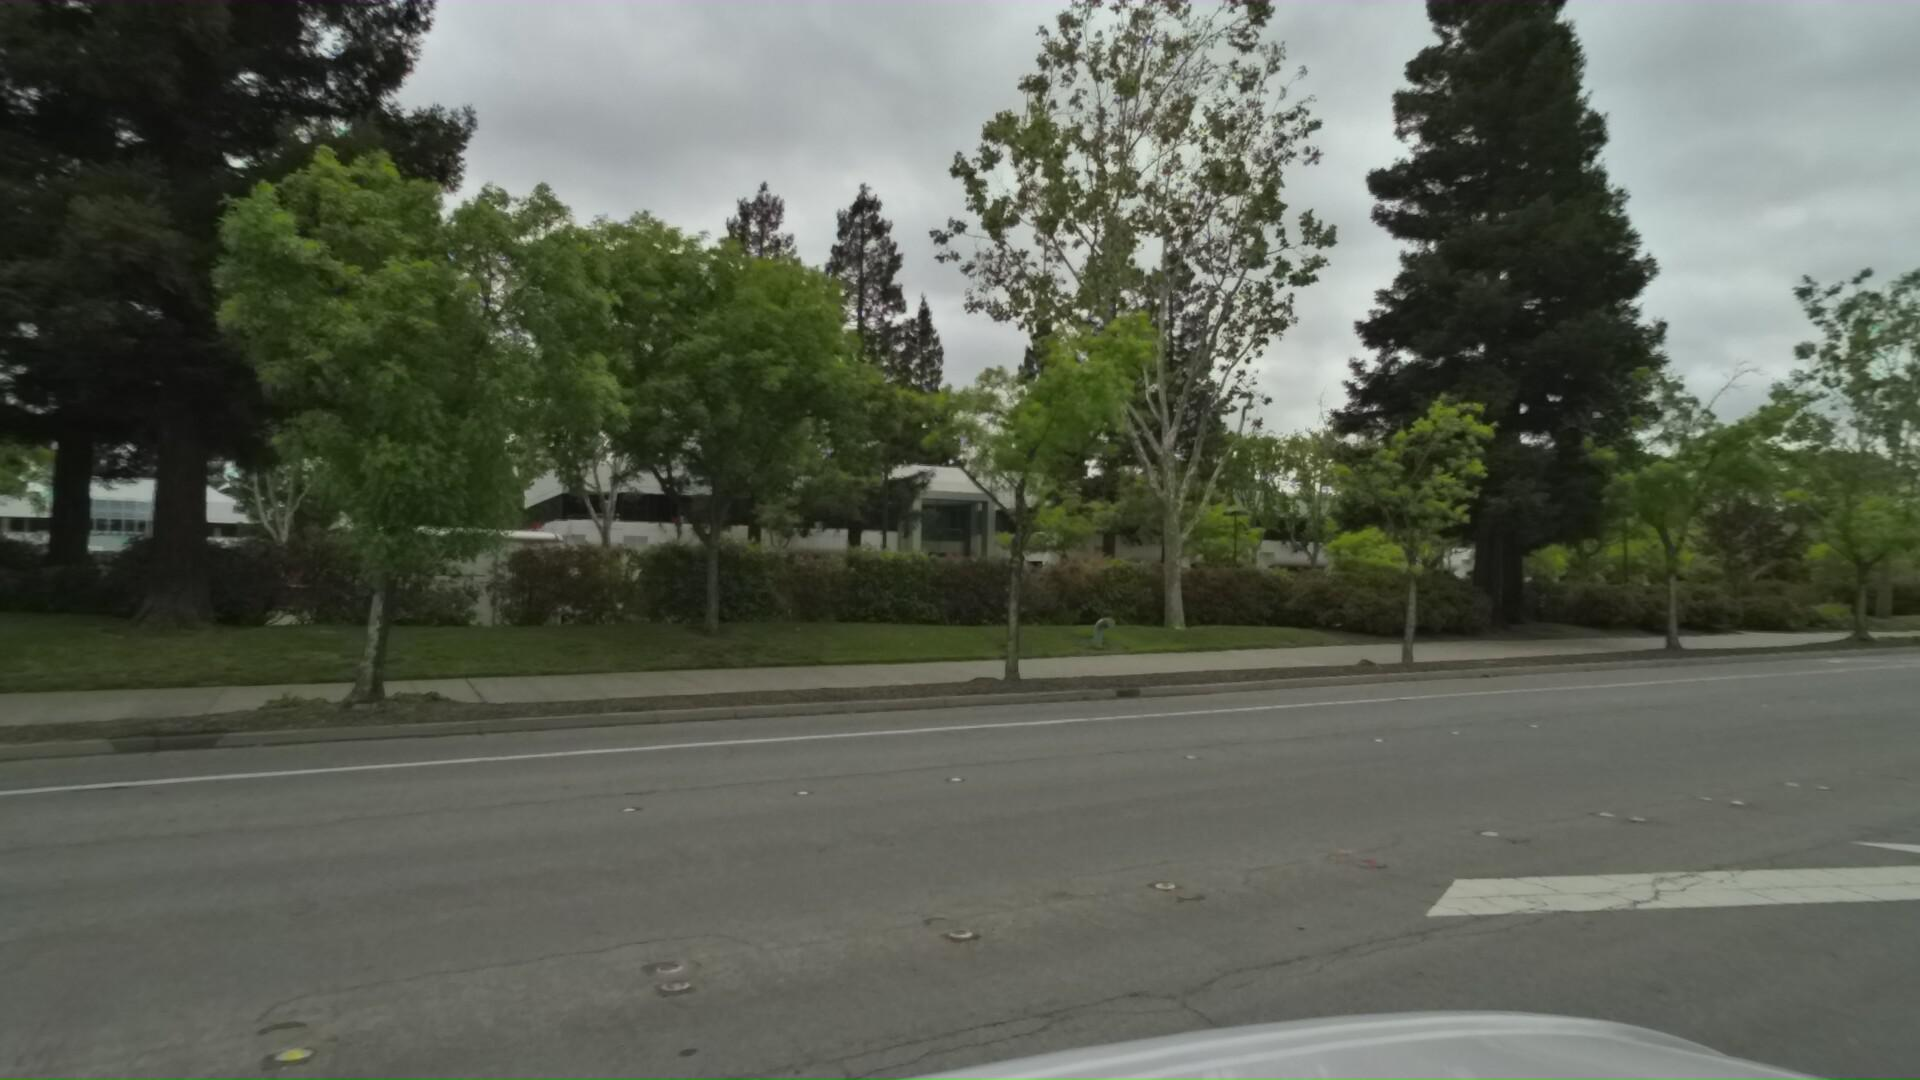other_vehicle: (281, 509, 558, 633)
